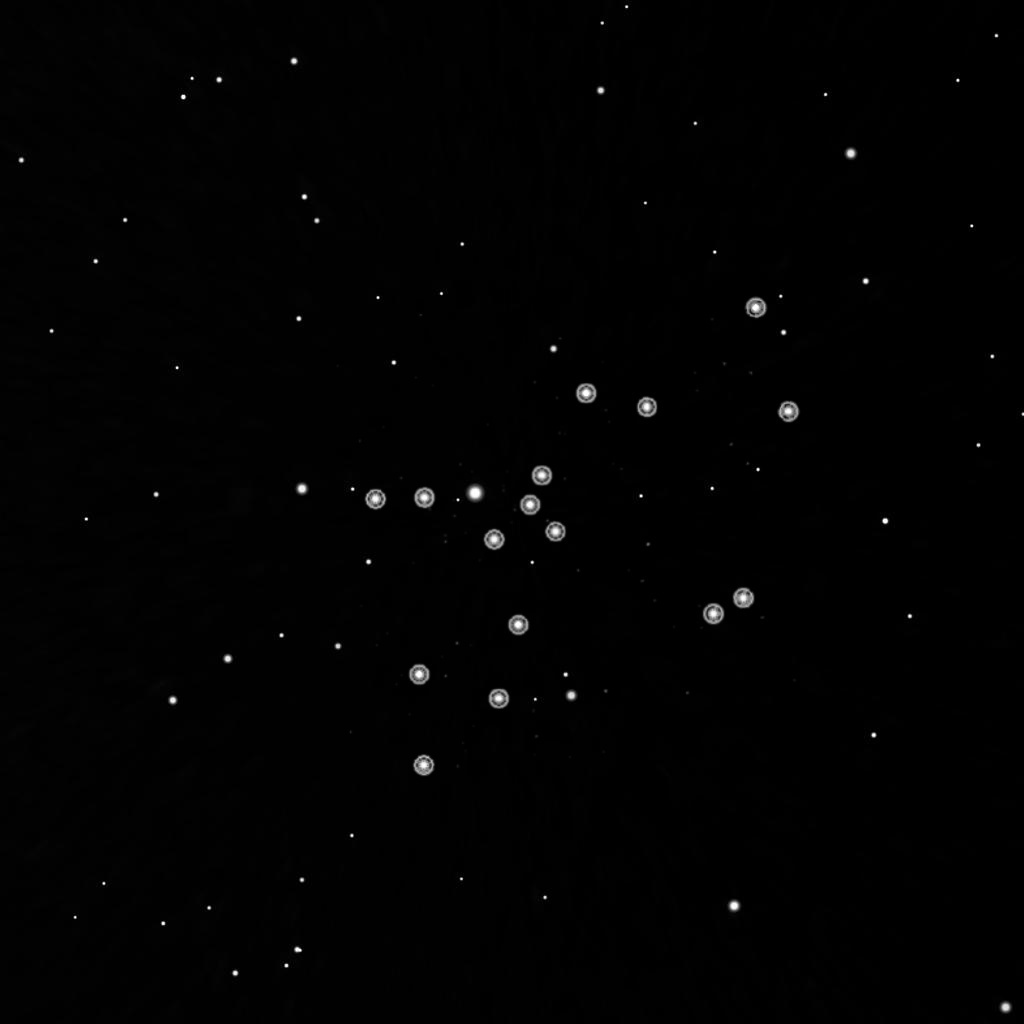canis_major: (479, 379, 665, 555)
